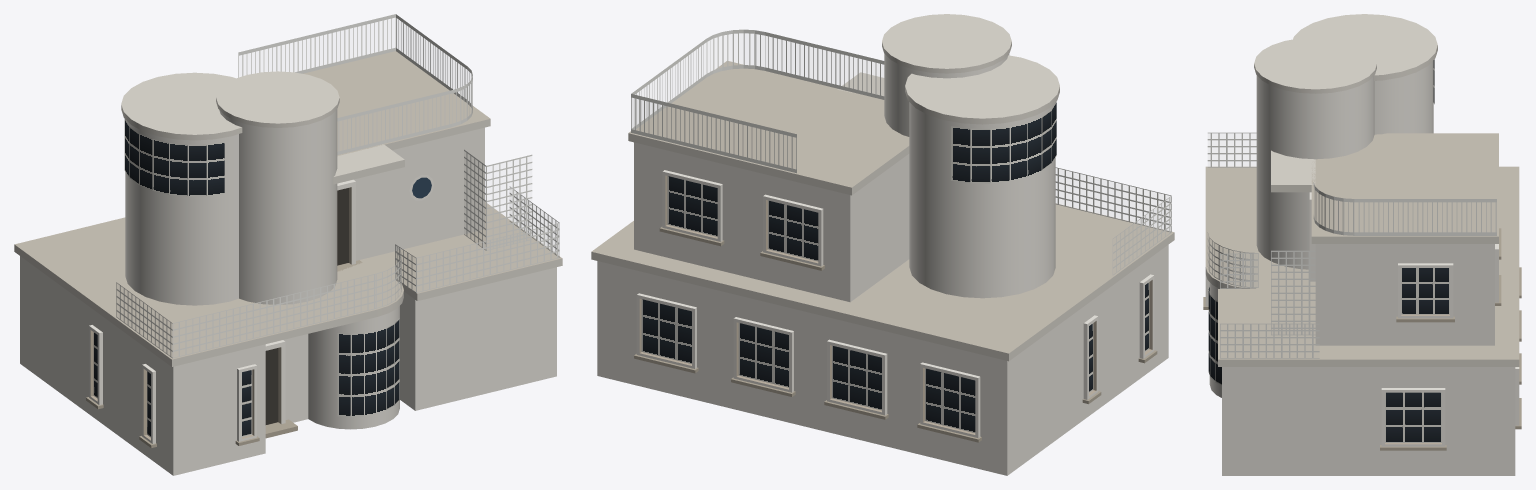
The model's file is maison_frank.glb.
3 views of the same model, side by side, from view 1: azimuth 30°, elevation 25°; view 2: azimuth 150°, elevation 25°; view 3: azimuth 270°, elevation 25° (orthographic). The views are drawn at different scales.
Visible parts, largest first — view 1: maison_frank; view 2: maison_frank; view 3: maison_frank.
Part boxes in pixels (x1,y1,x2,y2): maison_frank: (14, 14, 562, 475); maison_frank: (591, 14, 1174, 475); maison_frank: (1203, 14, 1521, 475).
Bounding box in the file's own units: 11.32 × 8.12 × 7.82.
3 materials, 3 textured.
